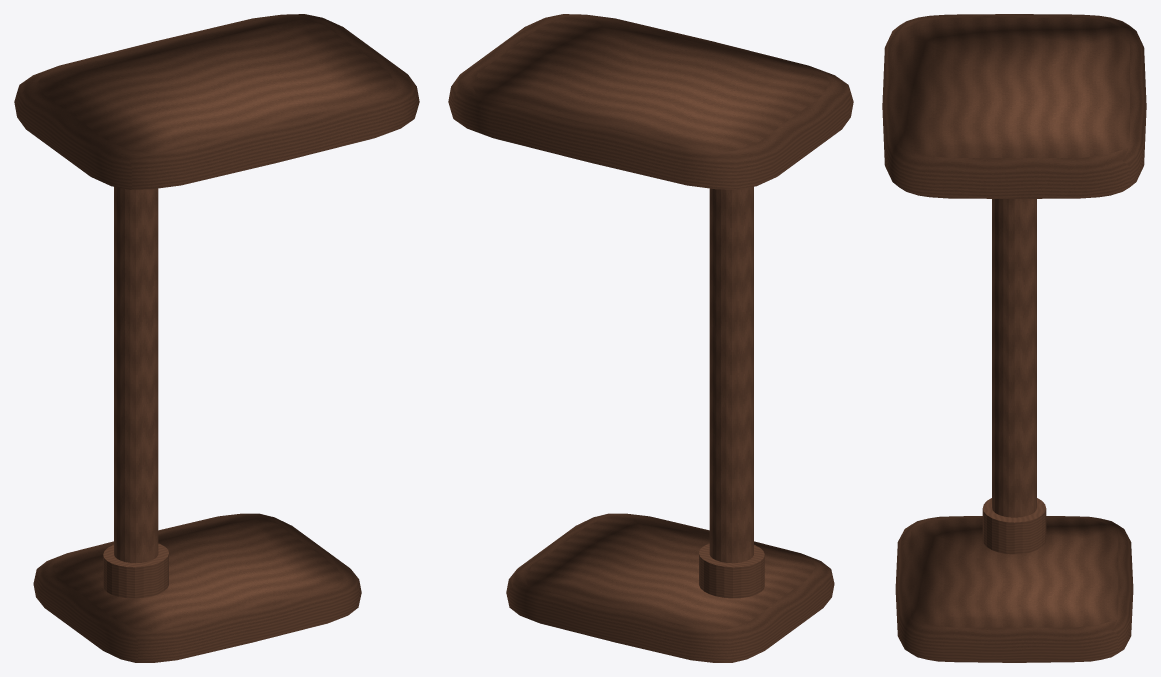
3 renders of one model, left to right at view 1: azimuth 30°, elevation 25°; view 2: azimuth 150°, elevation 25°; view 3: azimuth 270°, elevation 25°, orthographic. The views are drawn at different scales.
Visible parts, largest first — view 1: 1 tabletop, 5 base, 2 pedestal_leg, 4 leg_bottom_flare; view 2: 1 tabletop, 5 base, 2 pedestal_leg, 4 leg_bottom_flare; view 3: 1 tabletop, 5 base, 2 pedestal_leg, 4 leg_bottom_flare.
Part boxes in pixels (x1,y1,x2,y2): 1 tabletop: [14, 14, 419, 189]; 5 base: [33, 513, 361, 662]; 2 pedestal_leg: [114, 187, 158, 563]; 4 leg_bottom_flare: [103, 543, 168, 598]; 1 tabletop: [448, 14, 853, 189]; 5 base: [506, 513, 834, 662]; 2 pedestal_leg: [709, 187, 753, 563]; 4 leg_bottom_flare: [699, 543, 764, 598]; 1 tabletop: [882, 14, 1146, 198]; 5 base: [895, 516, 1133, 662]; 2 pedestal_leg: [992, 199, 1036, 517]; 4 leg_bottom_flare: [982, 498, 1046, 554].
Size of the model in its own units: 0.65 by 1 by 0.45.
1 material, 1 textured.
